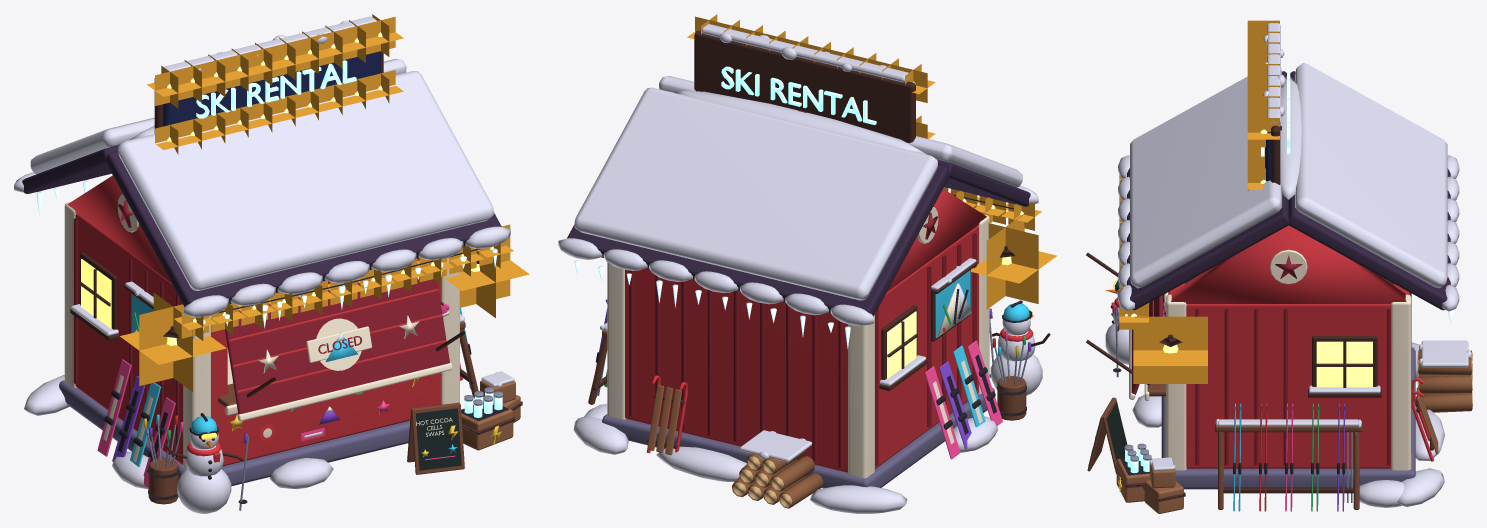
Rendered from frost_station.glb.
3 renders of one model, left to right at view 1: azimuth 30°, elevation 25°; view 2: azimuth 150°, elevation 25°; view 3: azimuth 270°, elevation 25°, orthographic. The views are drawn at different scales.
Visible parts, largest first — view 1: Station, Shutter, ClosedSign; view 2: Station; view 3: Station, Shutter.
Boxes of the visible parts, box(x1,y1,x2,y2) form: Station: box(14, 14, 529, 513); Shutter: box(225, 277, 452, 421); ClosedSign: box(306, 326, 371, 362); Station: box(558, 14, 1056, 513); Station: box(1087, 20, 1472, 513); Shutter: box(1129, 295, 1163, 399).
Bounding box in the file's own units: 6.96 × 6.87 × 6.55.
